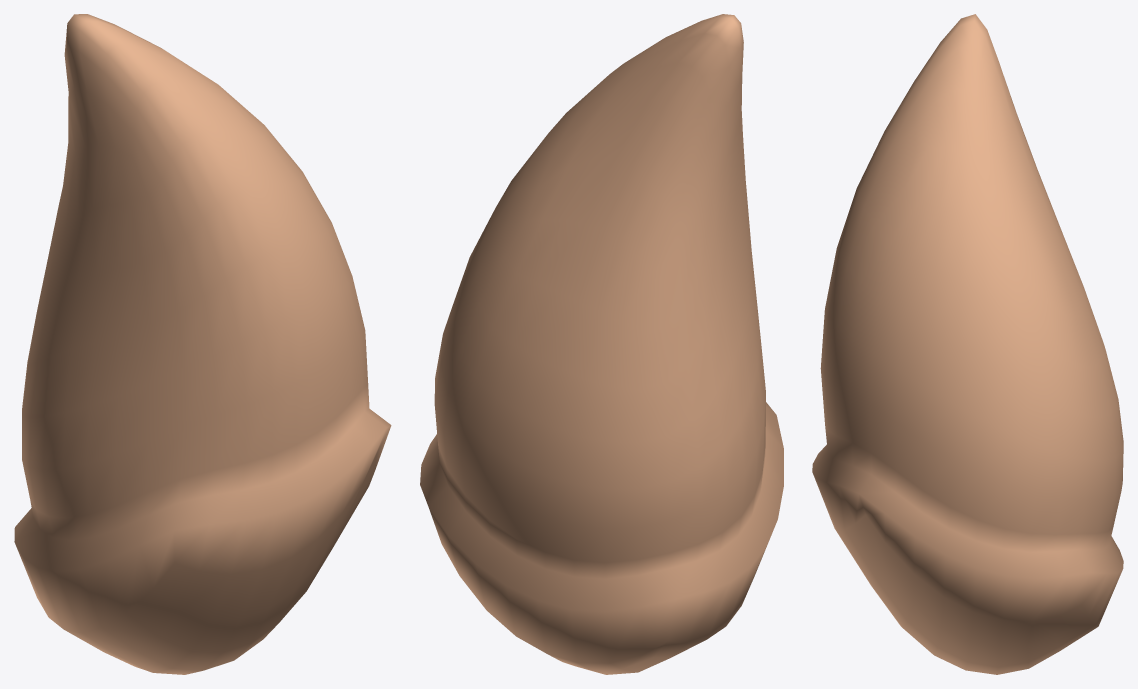
The model's file is fang.fbx.
The picture shows the model from 3 angles, left to right: view 1: azimuth 30°, elevation 25°; view 2: azimuth 150°, elevation 25°; view 3: azimuth 270°, elevation 25°; orthographic projection. The views are drawn at different scales.
Parts seen in each view (by area): view 1: Roundcube.006; view 2: Roundcube.006; view 3: Roundcube.006.
Boxes of the visible parts, x1,y1,x2,y2 form: Roundcube.006: [14, 14, 391, 674]; Roundcube.006: [420, 14, 783, 674]; Roundcube.006: [812, 14, 1123, 674].
Size of the model in its own units: 15.01 by 30.48 by 14.26.
